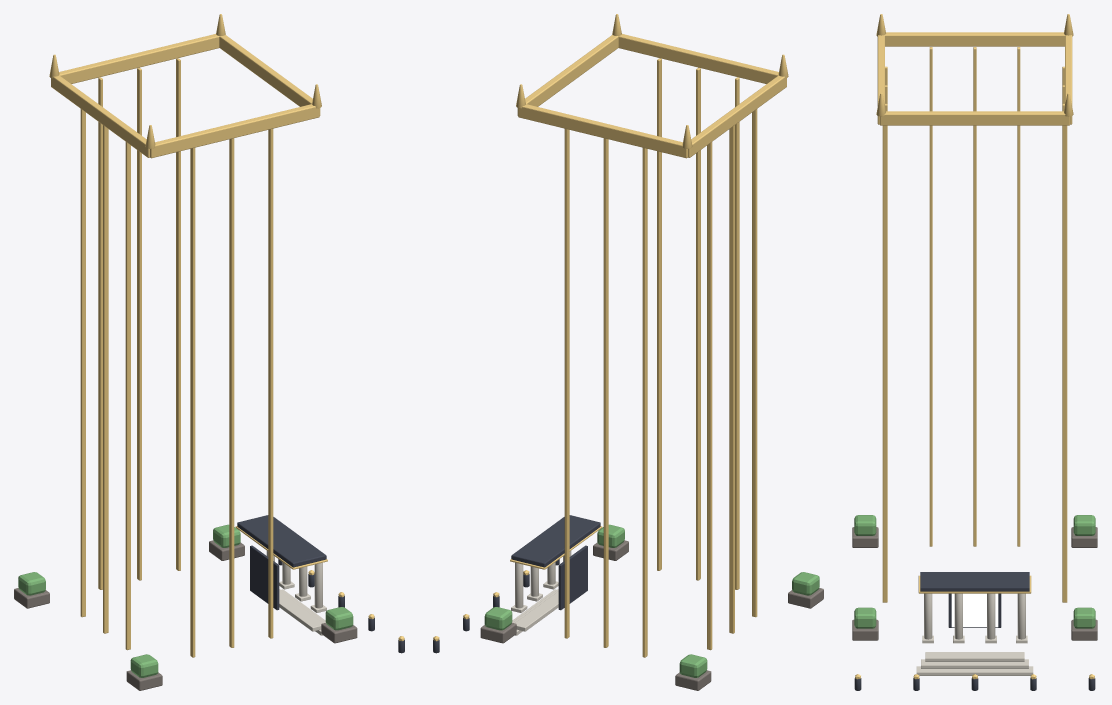
File: bny_detail.glb
3 views of the same model, side by side, from view 1: azimuth 30°, elevation 25°; view 2: azimuth 150°, elevation 25°; view 3: azimuth 270°, elevation 25° (orthographic). The views are drawn at different scales.
Visible parts, largest first — view 1: bny_fin_0_0.0, bny_fin_0_3.0, bny_fin_0_-3.0, bny_fin_3_-3.0, bny_fin_3_3.0, bny_fin_3_0.0, bny_parapet_1, bny_fin_2_-3.0, bny_fin_2_0.0, bny_fin_2_3.0, bny_parapet_0, bny_canopy (+4 smaller); view 2: bny_fin_2_0.0, bny_fin_2_-3.0, bny_fin_2_3.0, bny_fin_3_3.0, bny_fin_3_-3.0, bny_fin_3_0.0, bny_parapet_0, bny_fin_0_3.0, bny_fin_0_0.0, bny_fin_0_-3.0, bny_parapet_1, bny_canopy (+4 smaller); view 3: bny_fin_0_3.0, bny_fin_2_-3.0, bny_parapet_2, bny_parapet_3, bny_canopy, bny_fin_3_0.0, bny_fin_3_3.0, bny_fin_3_-3.0, bny_door, bny_step_2, bny_step_0, bny_step_1 (+13 smaller).
Boxes of the visible parts, bbox=[...] form: bny_fin_0_0.0: bbox=[229, 138, 234, 647]; bny_fin_0_3.0: bbox=[268, 129, 273, 638]; bny_fin_0_-3.0: bbox=[190, 148, 195, 657]; bny_fin_3_-3.0: bbox=[80, 109, 85, 617]; bny_fin_3_3.0: bbox=[125, 142, 130, 650]; bny_fin_3_0.0: bbox=[103, 125, 108, 633]; bny_parapet_1: bbox=[150, 104, 319, 158]; bny_fin_2_-3.0: bbox=[176, 58, 180, 570]; bny_fin_2_0.0: bbox=[137, 67, 141, 580]; bny_fin_2_3.0: bbox=[98, 77, 102, 589]; bny_parapet_0: bbox=[59, 34, 219, 83]; bny_canopy: bbox=[237, 515, 326, 567]; bny_fin_2_0.0: bbox=[603, 138, 608, 647]; bny_fin_2_-3.0: bbox=[564, 129, 569, 638]; bny_fin_2_3.0: bbox=[642, 148, 647, 657]; bny_fin_3_3.0: bbox=[752, 109, 757, 617]; bny_fin_3_-3.0: bbox=[707, 142, 712, 650]; bny_fin_3_0.0: bbox=[729, 125, 734, 633]; bny_parapet_0: bbox=[518, 104, 687, 158]; bny_fin_0_3.0: bbox=[657, 58, 661, 570]; bny_fin_0_0.0: bbox=[696, 67, 700, 580]; bny_fin_0_-3.0: bbox=[735, 77, 739, 589]; bny_parapet_1: bbox=[618, 34, 778, 83]; bny_canopy: bbox=[511, 515, 600, 567]; bny_fin_0_3.0: bbox=[882, 103, 887, 602]; bny_fin_2_-3.0: bbox=[1062, 103, 1067, 602]; bny_parapet_2: bbox=[880, 111, 1069, 125]; bny_parapet_3: bbox=[885, 32, 1064, 46]; bny_canopy: bbox=[920, 572, 1029, 591]; bny_fin_3_0.0: bbox=[973, 47, 976, 546]; bny_fin_3_3.0: bbox=[929, 47, 932, 546]; bny_fin_3_-3.0: bbox=[1017, 47, 1020, 546]; bny_door: bbox=[951, 593, 998, 627]; bny_step_2: bbox=[925, 652, 1024, 661]; bny_step_0: bbox=[916, 666, 1033, 675]; bny_step_1: bbox=[921, 659, 1028, 668].
Bounding box in the file's own units: 20.62 × 42.4 × 16.8.
